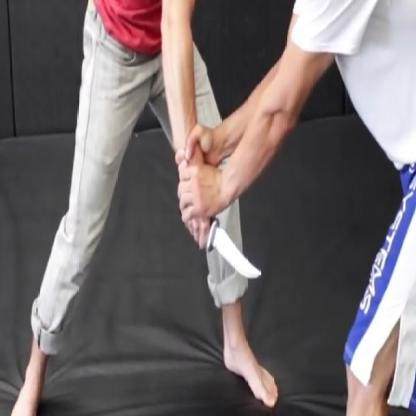knife: (176, 198, 264, 290)
